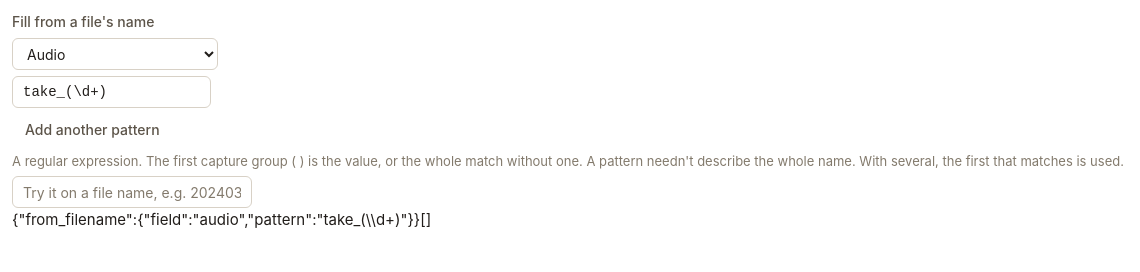
Scenario: fill from a file name › asks the server what a file name gives and shows the answer
Type "rec_take_07.wav" into the field named "Try a file name". click: coordinates (132, 192)
box: [12,176,252,208]
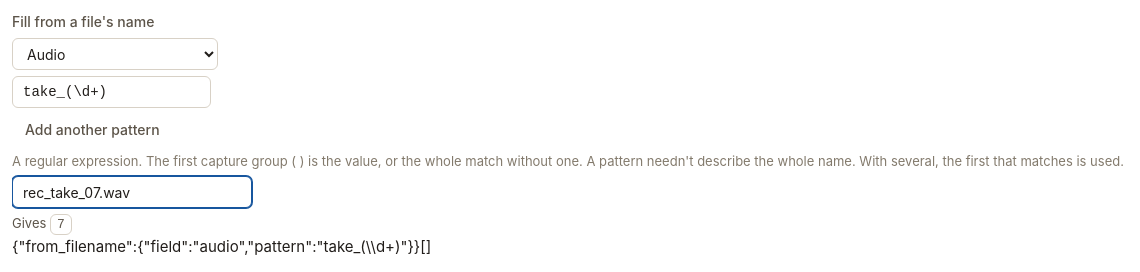
Expected: the message with test id "tried" reads "Gives 7", [12,214,72,236]
Replace the text in the field named "Try a file name" with "rec.wav". click: coordinates (132, 192)
box: [12,176,252,208]
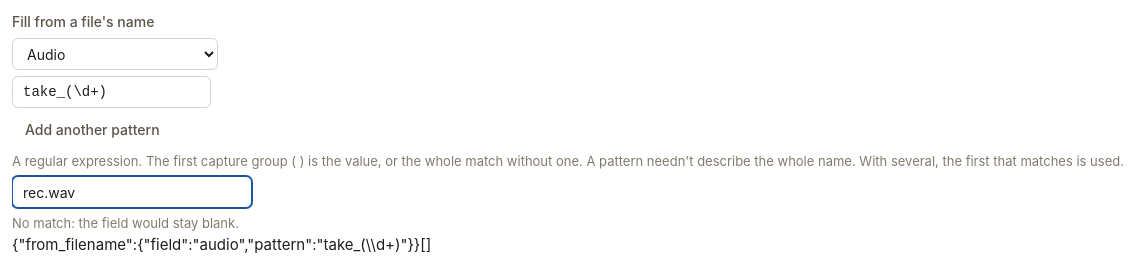
Expected: the message with test id "tried" shows "stay blank", [12,216,239,232]
